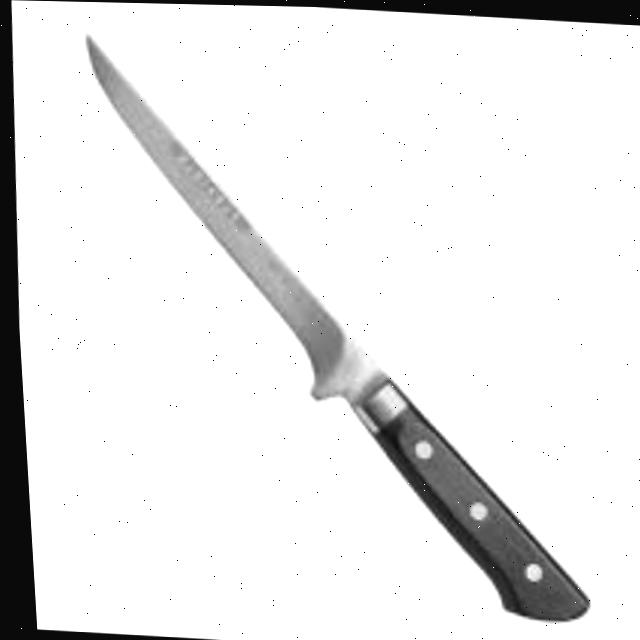Knife: (65, 29, 604, 621)
